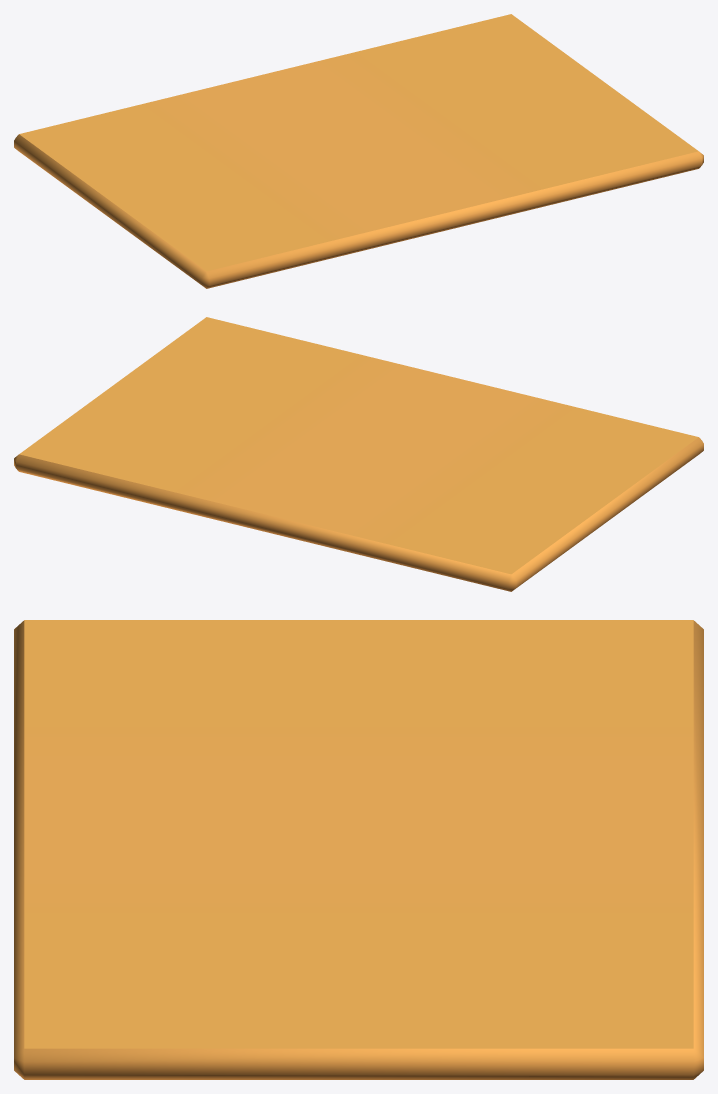
The model's file is kay-tapete.gltf.
3 renders of one model, top to bottom at view 1: azimuth 30°, elevation 25°; view 2: azimuth 150°, elevation 25°; view 3: azimuth 270°, elevation 25°, orthographic. The views are drawn at different scales.
Parts seen in each view (by area): view 1: rug_rectangle_A; view 2: rug_rectangle_A; view 3: rug_rectangle_A.
Part boxes in pixels (box(x1,y1,x2,y2)): rug_rectangle_A: box(14, 14, 703, 288); rug_rectangle_A: box(14, 317, 703, 591); rug_rectangle_A: box(14, 620, 703, 1079).
Bounding box in the file's own units: 1.95 × 0.065 × 1.3.
Materials: 1 (1 with a texture image).
